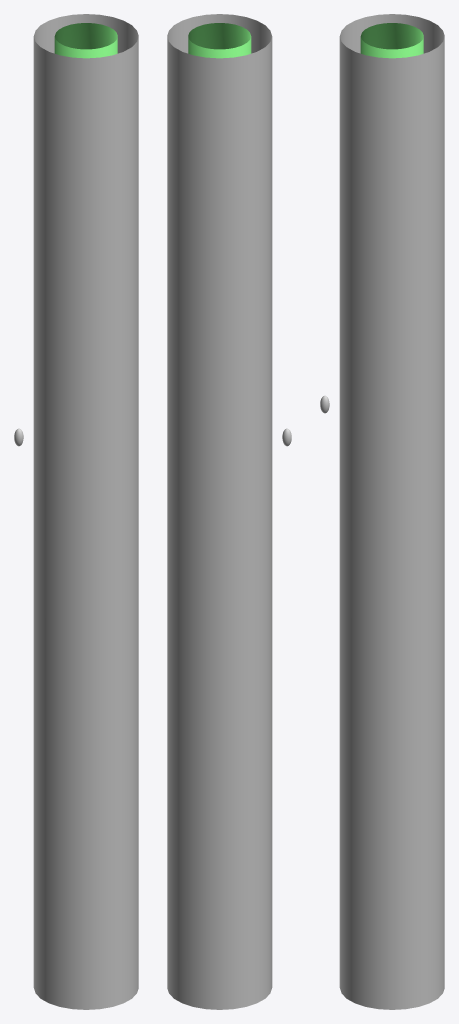
The model's file is EclipseLaser.fbx.
The picture shows the model from 3 angles, left to right: view 1: azimuth 30°, elevation 25°; view 2: azimuth 150°, elevation 25°; view 3: azimuth 330°, elevation 25°; orthographic projection.
Parts seen in each view (by area): view 1: meshEclipseMain; view 2: meshEclipseMain; view 3: meshEclipseMain.
Part boxes in pixels (box(x1,y1,x2,y2)): meshEclipseMain: box(33, 14, 138, 1009); meshEclipseMain: box(167, 14, 272, 1009); meshEclipseMain: box(339, 14, 444, 1009).
Bounding box in the file's own units: 257 × 2000 × 200.
